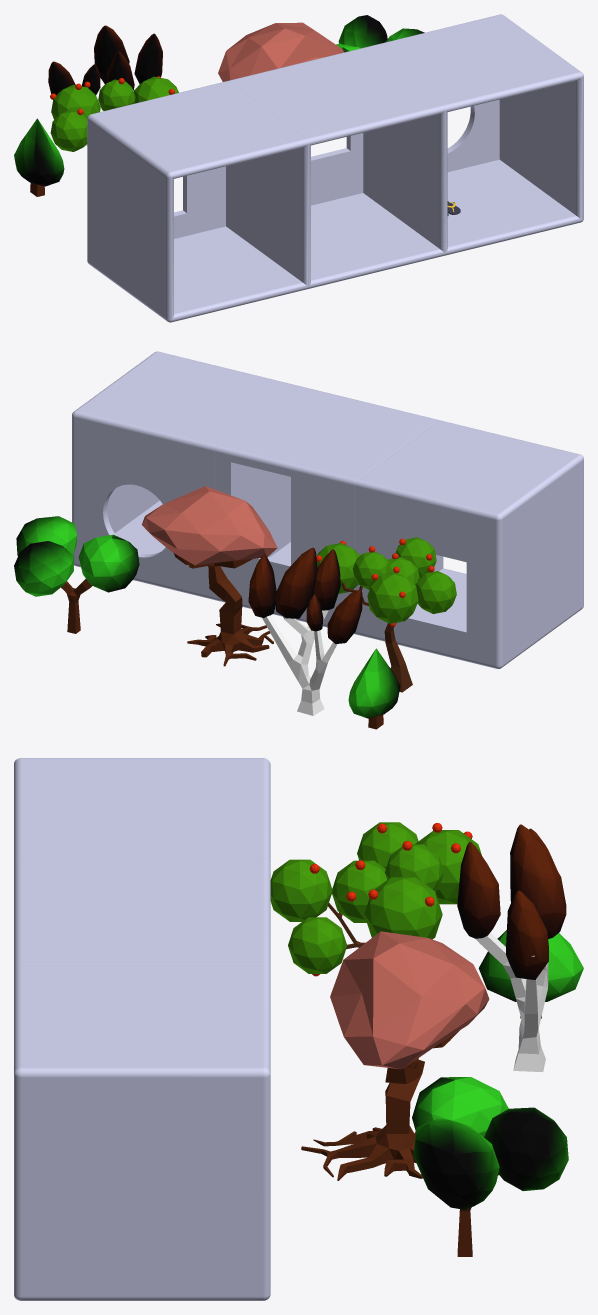
File: explainer-poc-static.glb
3 renders of one model, top to bottom at view 1: azimuth 30°, elevation 25°; view 2: azimuth 150°, elevation 25°; view 3: azimuth 270°, elevation 25°, orthographic. The views are drawn at different scales.
Parts seen in each view (by area): view 1: Room, Room 2, Room 1, treetop (×4), tree crown; view 2: Room, Room 2, treetop (×4), Room 1, trunk and branches (×4), tree crown; view 3: Room 2, treetop (×4), Room, Room 1, tree crown, trunk and branches (×2), apples.
Boxes of the visible parts, <box> form: Room: <box>87,81,308,322</box>; Room 2: <box>364,14,583,255</box>; Room 1: <box>227,47,447,288</box>; treetop (×4): <box>14,15,424,186</box>; tree crown: <box>218,22,344,81</box>; Room: <box>355,420,583,668</box>; Room 2: <box>72,351,298,600</box>; treetop (×4): <box>14,516,456,718</box>; Room 1: <box>214,386,438,634</box>; trunk and branches (×4): <box>61,553,412,715</box>; tree crown: <box>142,486,277,565</box>; Room 2: <box>14,965,270,1300</box>; treetop (×4): <box>270,822,583,1209</box>; Room: <box>14,758,270,866</box>; Room 1: <box>14,861,270,969</box>; tree crown: <box>330,931,489,1069</box>; trunk and branches (×2): <box>301,932,548,1180</box>; apples: <box>309,823,472,976</box>.
Size of the model in its own units: 0.2904 by 0.1035 by 0.2219.
Materials: 20 (3 with a texture image).
